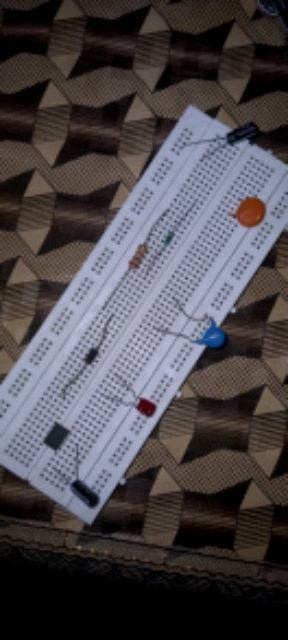capacitor: (236, 198, 267, 228), (226, 120, 260, 146), (71, 480, 99, 510), (202, 325, 227, 350), (136, 397, 157, 417)
resistor: (129, 244, 148, 270), (165, 232, 176, 247)
